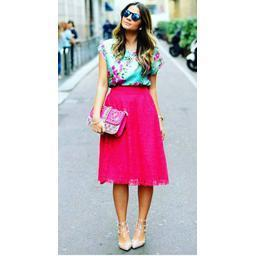Tshirt: (98, 40, 165, 88)
skirt: (98, 86, 170, 186)
